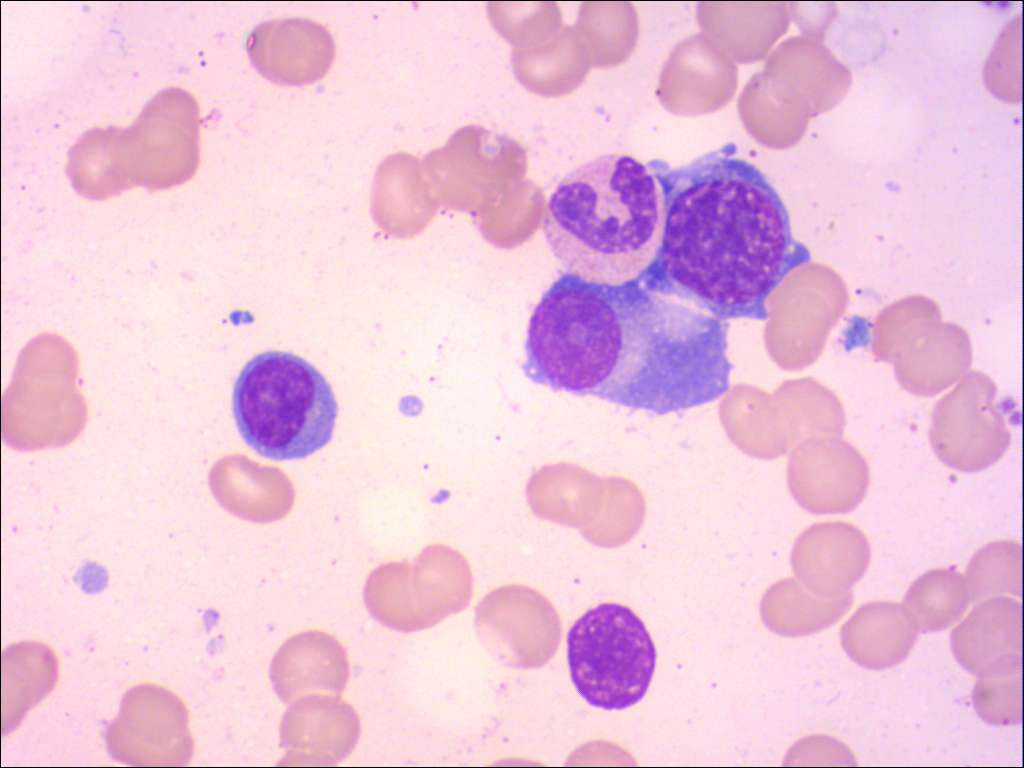23: (643, 139, 814, 325)
5: (536, 150, 669, 287)
51: (515, 271, 737, 418), (229, 348, 340, 463)
x: (562, 602, 659, 714)
